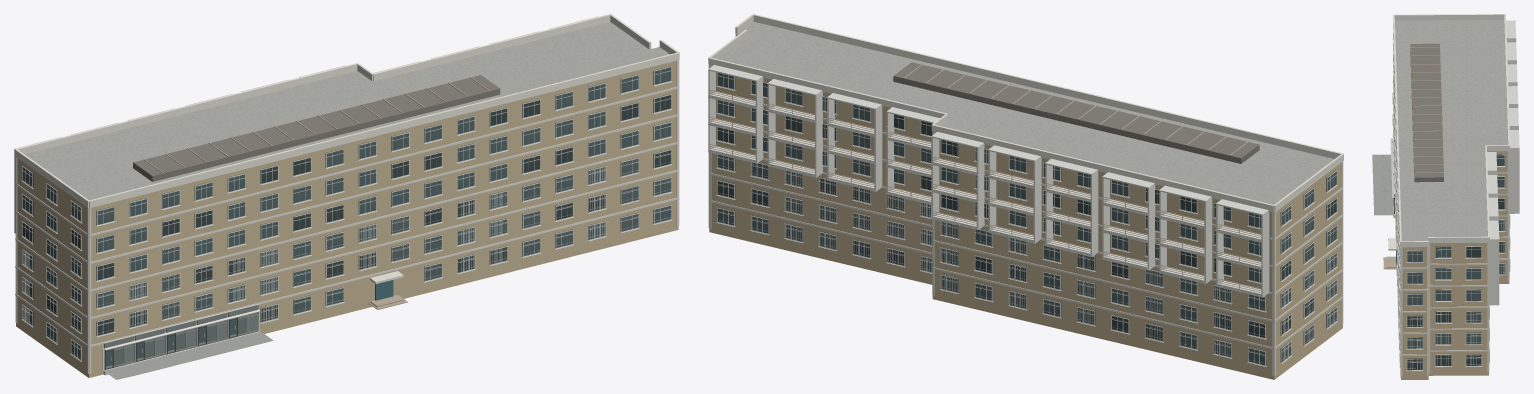
The model's file is chunk-dorm-way-1501460952.glb.
The picture shows the model from 3 angles, left to right: view 1: azimuth 30°, elevation 25°; view 2: azimuth 150°, elevation 25°; view 3: azimuth 270°, elevation 25°; orthographic projection. The views are drawn at different scales.
Visible parts, largest first — view 1: chunk-dorm-way-1501460952; view 2: chunk-dorm-way-1501460952; view 3: chunk-dorm-way-1501460952.
Boxes of the visible parts, x1,y1,x2,y2 form: chunk-dorm-way-1501460952: (14, 14, 679, 379); chunk-dorm-way-1501460952: (708, 14, 1343, 379); chunk-dorm-way-1501460952: (1372, 14, 1519, 379).
Bounding box in the file's own units: 74.59 × 21.1 × 20.38.
16 materials, 2 textured.
